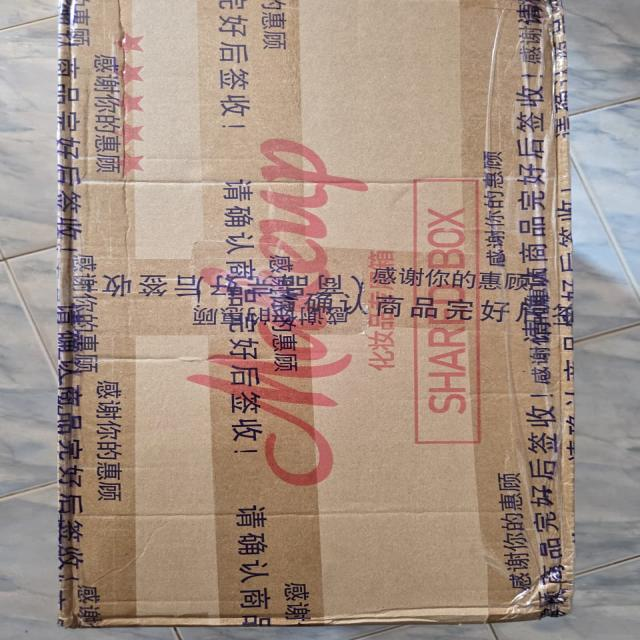carton_box: (32, 1, 588, 633)
package_damage: (520, 573, 584, 630)
